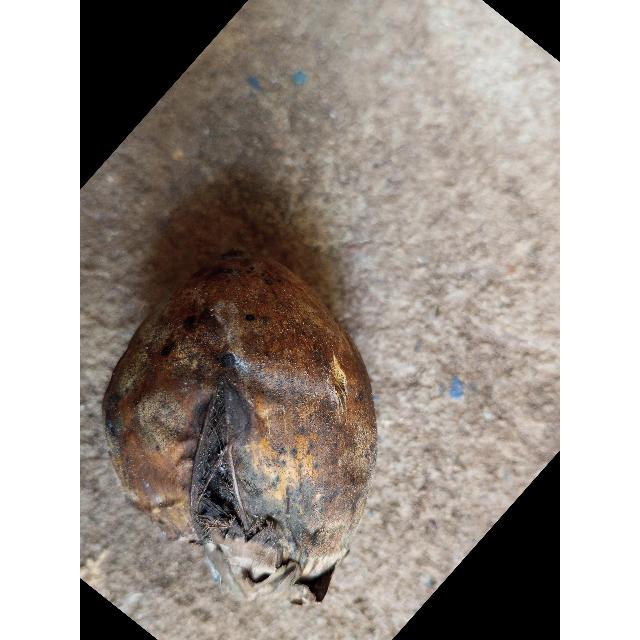damaged: (104, 252, 376, 603)
